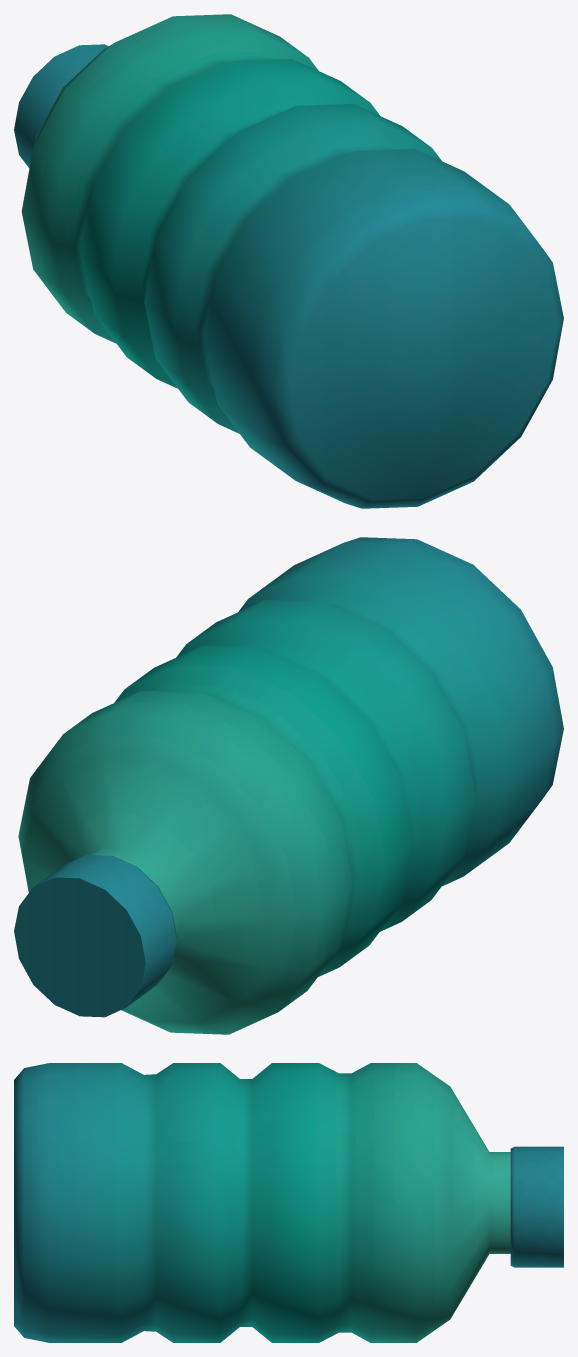
File: Ridged Bottle.fbx
3 views of the same model, one above another, from view 1: azimuth 30°, elevation 25°; view 2: azimuth 150°, elevation 25°; view 3: azimuth 270°, elevation 25° (orthographic). The views are drawn at different scales.
Visible parts, largest first — view 1: ridged bottle; view 2: ridged bottle; view 3: ridged bottle.
Boxes of the visible parts, box(x1,y1,x2,y2) form: ridged bottle: box(14, 14, 563, 508); ridged bottle: box(14, 537, 563, 1034); ridged bottle: box(14, 1063, 563, 1342).
Bounding box in the file's own units: 53.68 × 53.68 × 105.
1 material, 1 textured.
